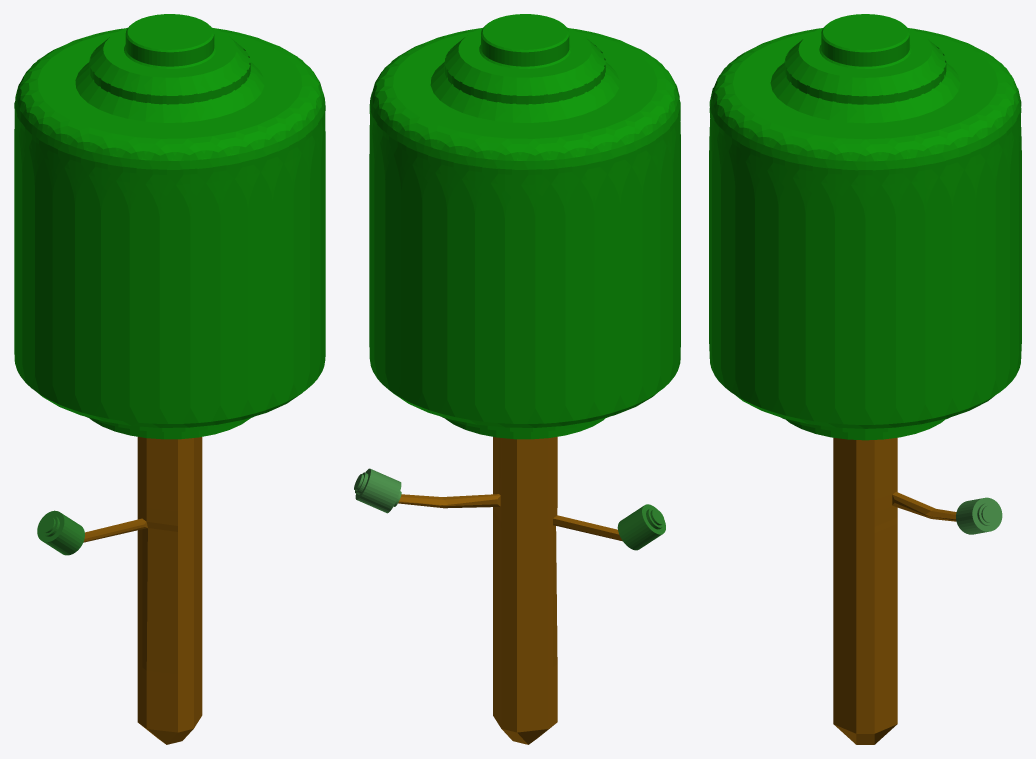
Rendered from Drzewo.fbx.
3 renders of one model, left to right at view 1: azimuth 30°, elevation 25°; view 2: azimuth 150°, elevation 25°; view 3: azimuth 270°, elevation 25°, orthographic.
Parts seen in each view (by area): view 1: Cylinder, Cube, Cylinder.001; view 2: Cylinder, Cube, Cylinder.001, Cylinder.002; view 3: Cylinder, Cube, Cylinder.002.
Boxes of the visible parts, x1=… form: Cylinder: x1=14, y1=14, x2=325, y2=439; Cube: x1=83, y1=437, x2=202, y2=744; Cylinder.001: x1=37, y1=510, x2=84, y2=555; Cylinder: x1=369, y1=14, x2=680, y2=439; Cube: x1=398, y1=436, x2=622, y2=744; Cylinder.001: x1=617, y1=504, x2=665, y2=550; Cylinder.002: x1=354, y1=468, x2=401, y2=513; Cylinder: x1=709, y1=14, x2=1021, y2=440; Cube: x1=833, y1=437, x2=956, y2=744; Cylinder.002: x1=956, y1=497, x2=1002, y2=534.
Bounding box in the file's own units: 973 × 2433 × 973.
